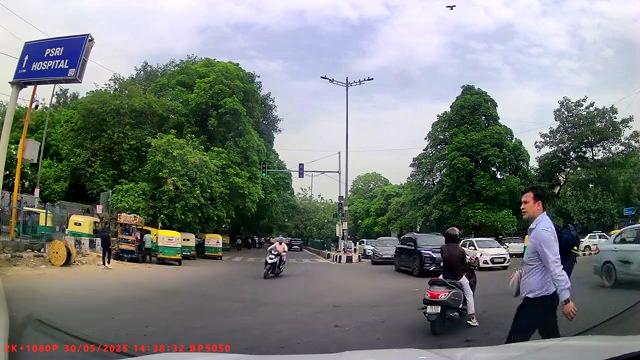motorcycle_with_helmet: (422, 226, 480, 335), (261, 236, 287, 280)
